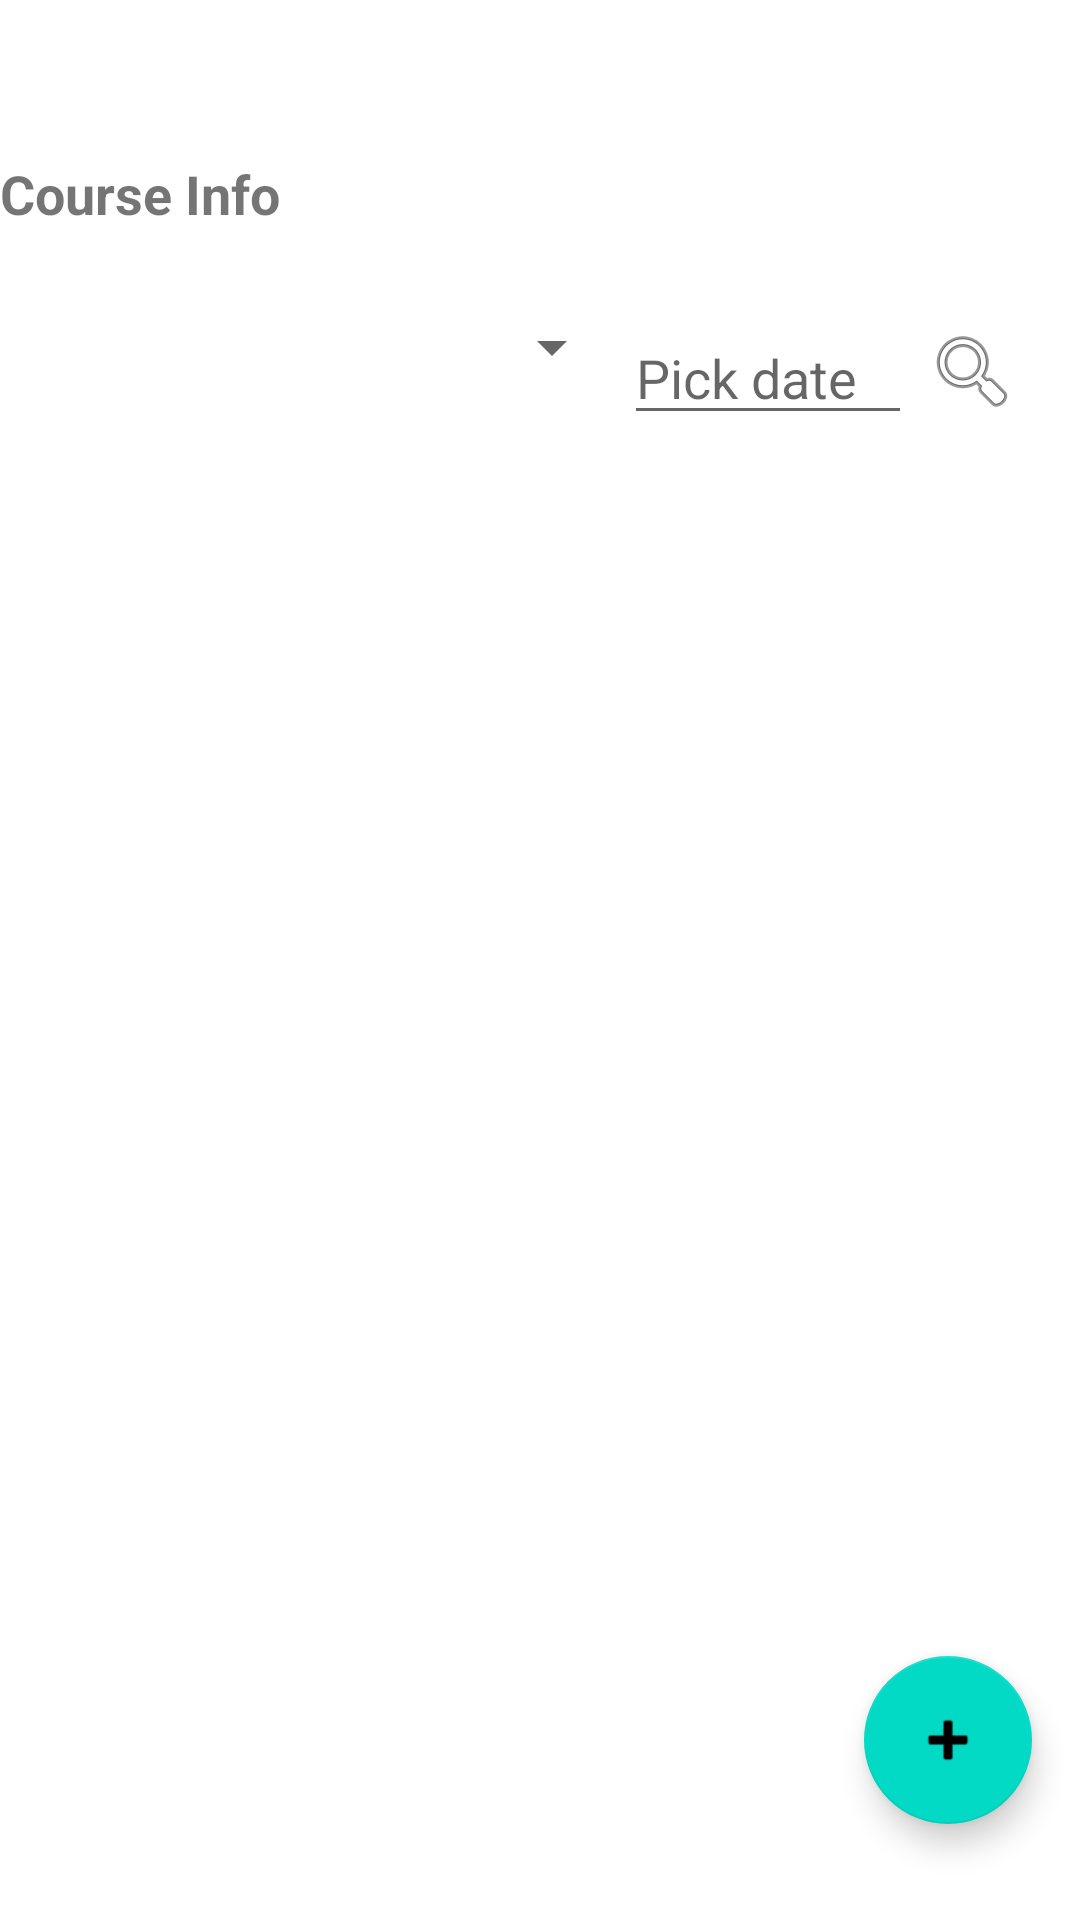

Icon click points for this 1080×1920 phone screenshot, format [x,y]:
Add Instance: [948,1740]
Search: [972,371]
